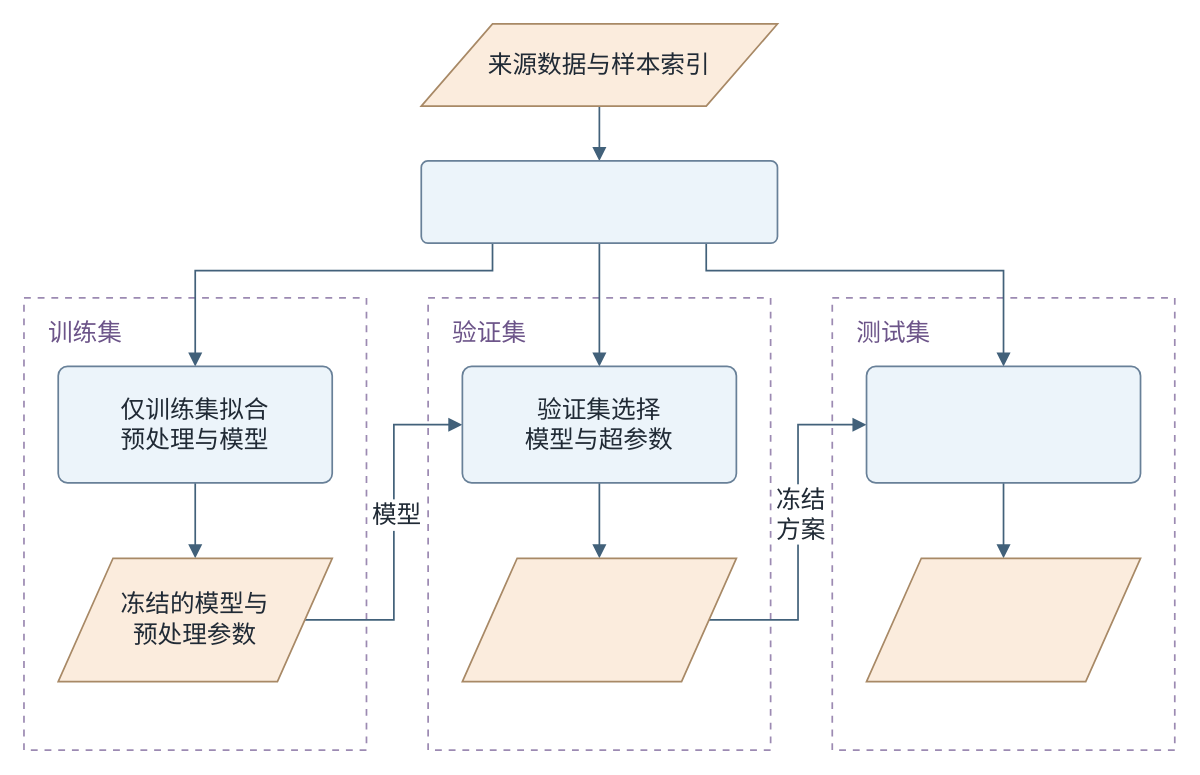
Image size: 1200x775. Some labels were removed from this diagram. The shapes that lost their labels are listed below. From the top down, each one's centre as x and y in pixels, then its label:
At point (599, 201): "按时间或组划分 先锁定三个集合".
At point (1003, 424): "测试集仅作 最终一次评估".
At point (599, 619): "锁定选择规则 与最终方案".
At point (1003, 619): "记录误差与 不确定性".
